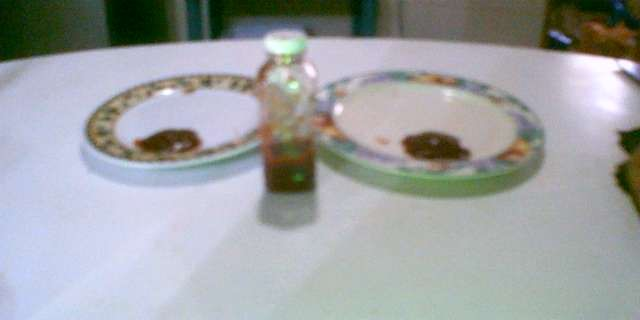ketchup_bottle: (247, 20, 331, 198)
ketchup_portion: (399, 126, 476, 164), (131, 123, 205, 158)
